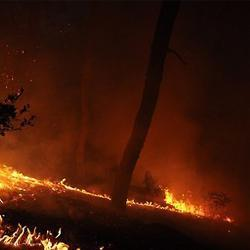fire: (1, 162, 30, 198), (163, 192, 200, 217), (38, 239, 64, 250)
